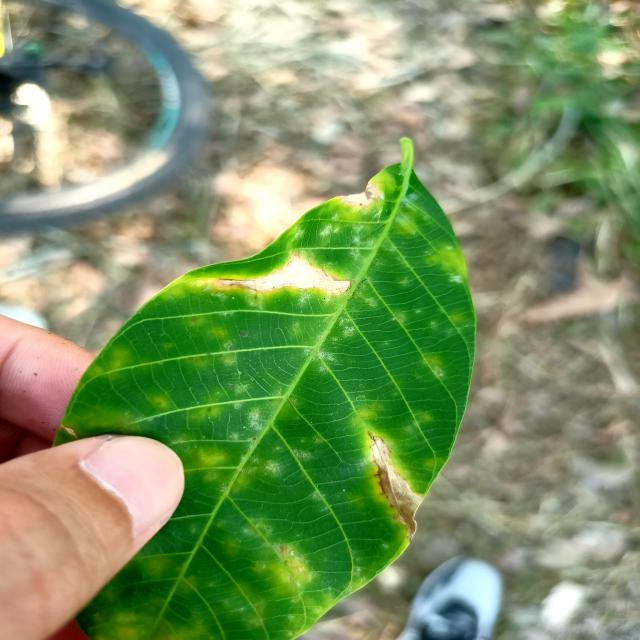Leaf-Blight: (370, 436, 426, 540), (222, 252, 352, 292), (338, 182, 382, 211)
